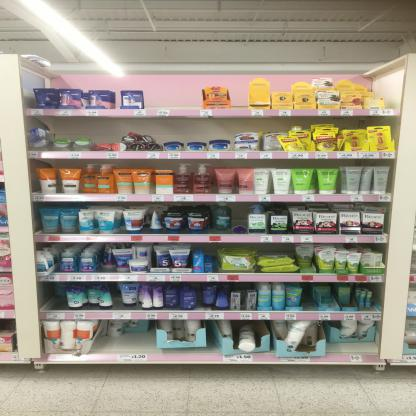Void: (148, 119, 226, 139), (58, 117, 116, 139), (149, 89, 204, 107), (106, 336, 154, 352), (43, 282, 63, 307), (254, 244, 289, 254), (237, 89, 251, 106), (234, 205, 245, 223)
